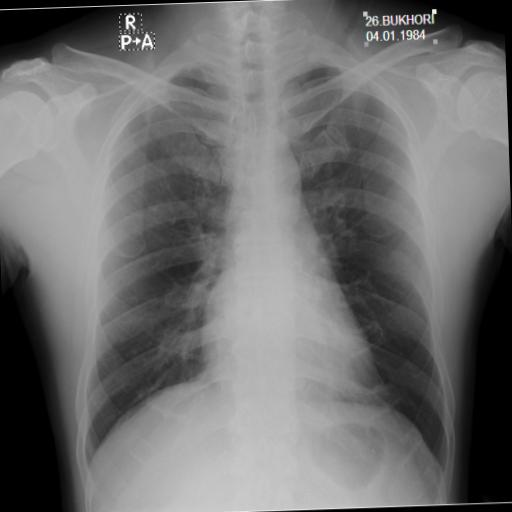normal: (54, 28, 460, 494)
